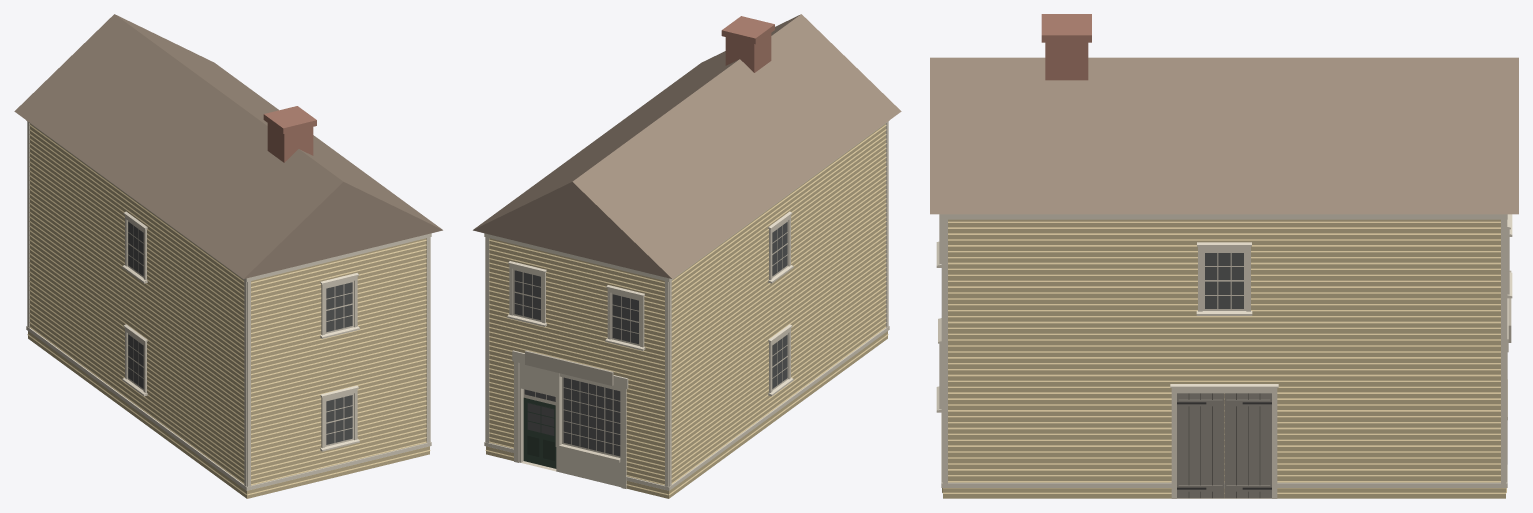
Rendered from recon_1835_gifford_c3_015__inferred_1835.glb.
3 renders of one model, left to right at view 1: azimuth 30°, elevation 25°; view 2: azimuth 150°, elevation 25°; view 3: azimuth 270°, elevation 25°, orthographic. The views are drawn at different scales.
Visible parts, largest first — view 1: recon_1835_gifford_c3_015__inferred_1835; view 2: recon_1835_gifford_c3_015__inferred_1835; view 3: recon_1835_gifford_c3_015__inferred_1835.
Boxes of the visible parts, box(x1,y1,x2,y2) form: recon_1835_gifford_c3_015__inferred_1835: box(14, 14, 442, 498); recon_1835_gifford_c3_015__inferred_1835: box(473, 14, 901, 498); recon_1835_gifford_c3_015__inferred_1835: box(930, 14, 1518, 498).
Size of the model in its own units: 5.8 by 8.98 by 11.5.
